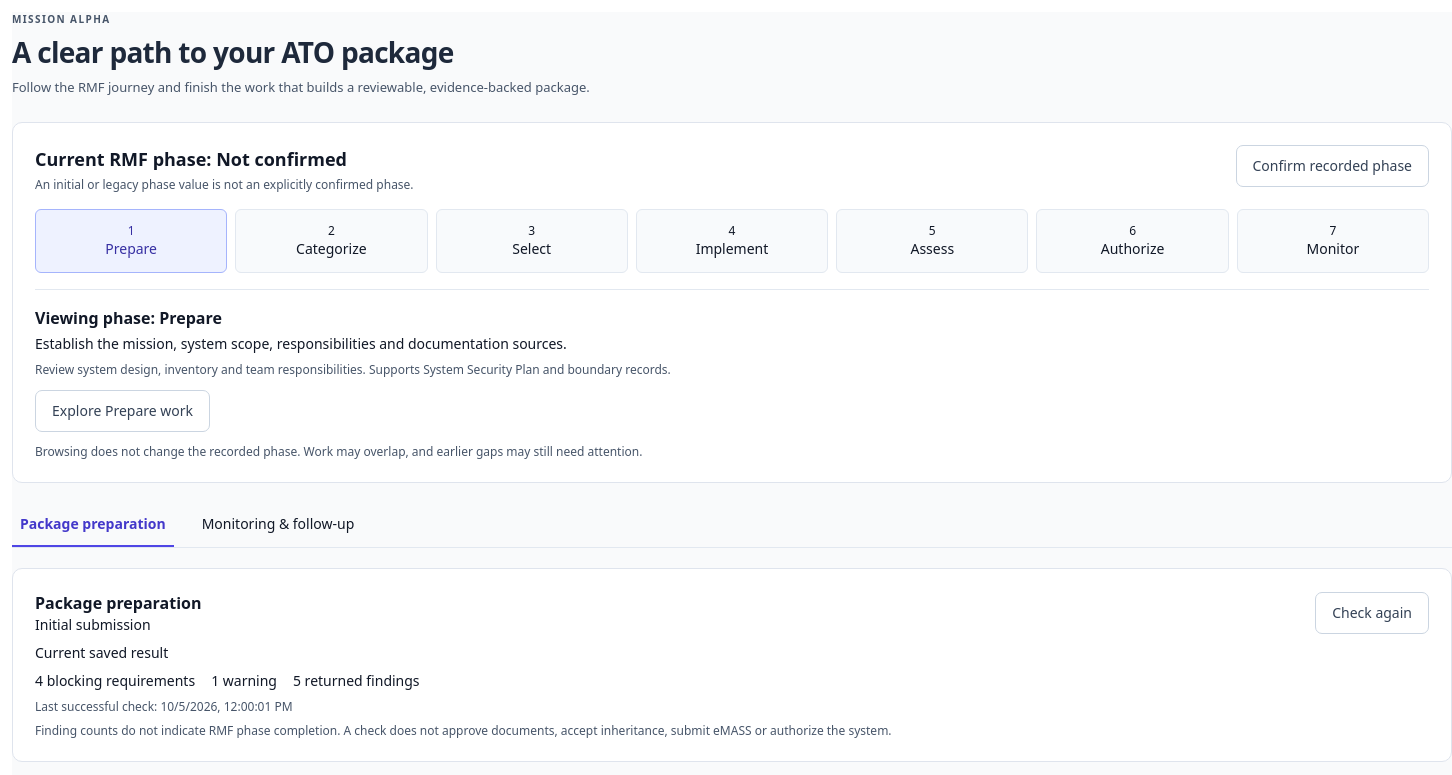
Test: RMF journey overview › preserves previous successful results after refresh fails
Expected: the text "5 returned findings" is shown, [293,670,420,690]
Click the button "Check again". click: x=1372, y=612
box: [1315,592,1429,634]
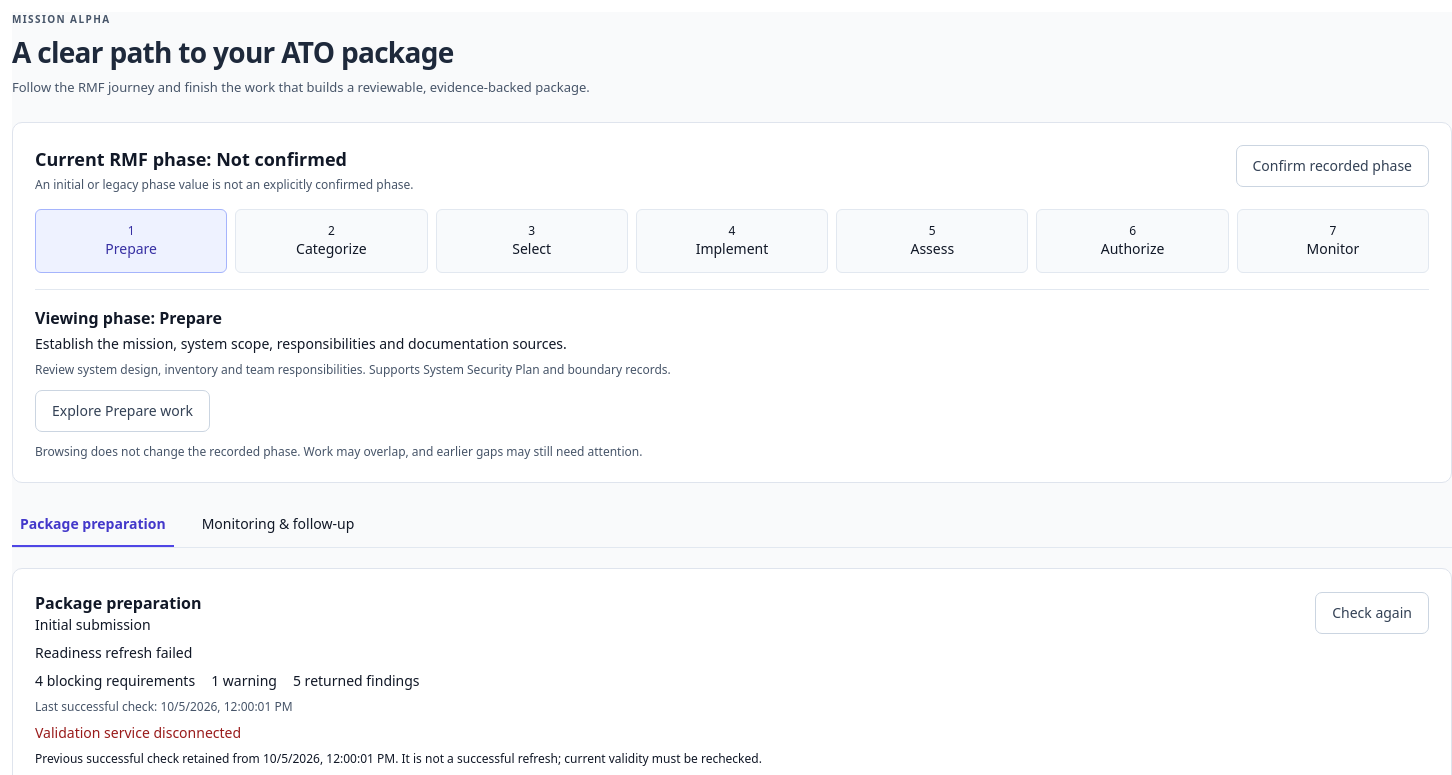
Expected: the text "5 returned findings" is shown, [293,670,420,690]
Expected: the text "Validation service disconnected" is shown, [35,722,241,742]
Expected: the text "Previous successful check retained" is shown, [35,750,263,766]
